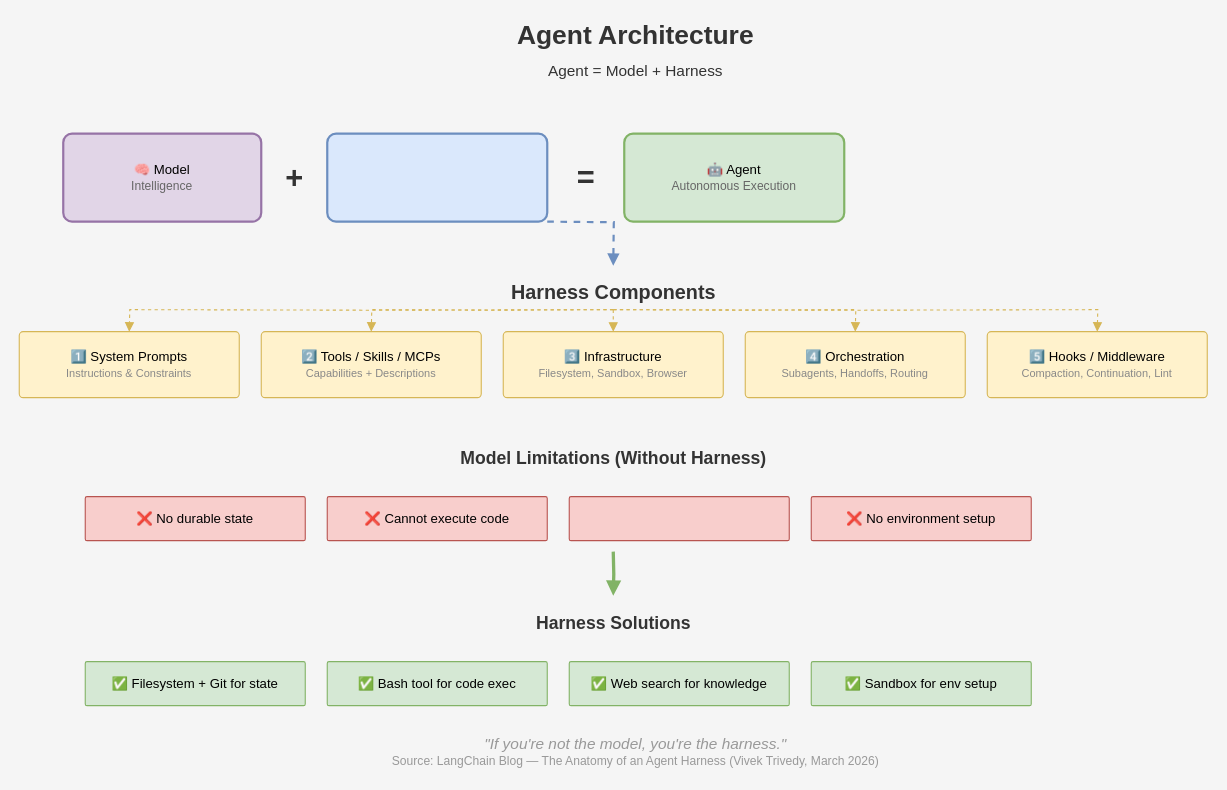
Some shapes in this 1227 by 790 pixel diagram are drawn without their labels. Here are the shapes that lost their labels. From the top down, the centre of each, then its label:
the point at 437,177: ⚙️ Harness Work Engine
the point at 678,518: ❌ No real-time knowledge
